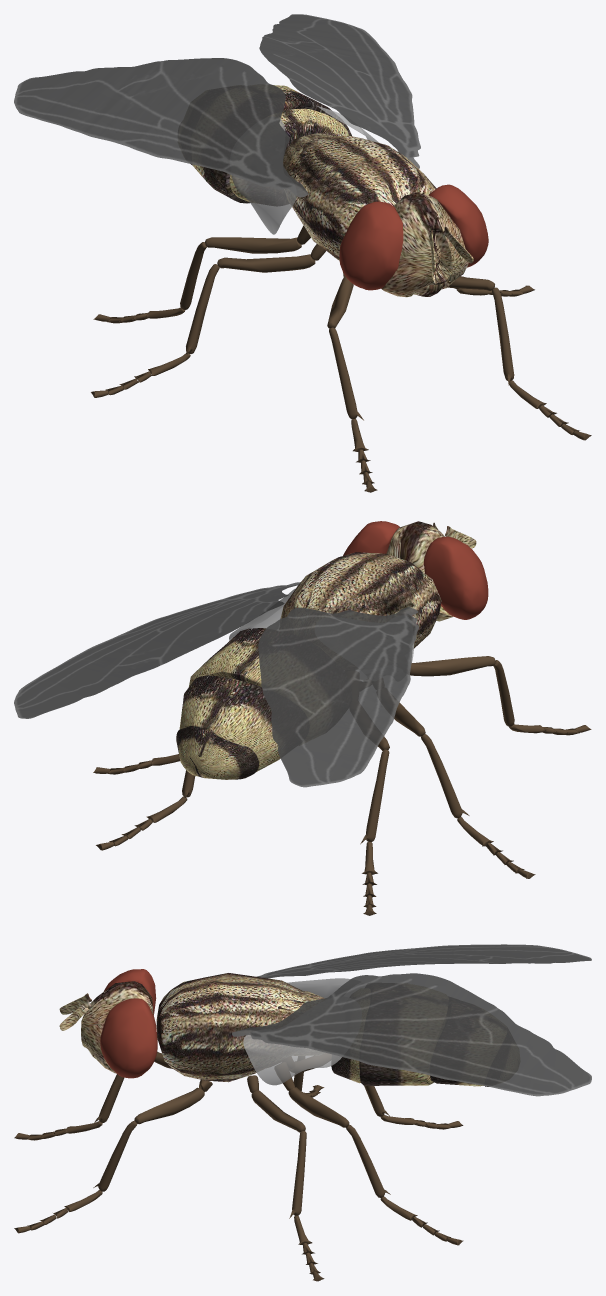
File: realhousefly.glb
The picture shows the model from 3 angles, top to bottom: view 1: azimuth 30°, elevation 25°; view 2: azimuth 150°, elevation 25°; view 3: azimuth 270°, elevation 25°; orthographic projection. The views are drawn at different scales.
Visible parts, largest first — view 1: 3DSMeshMatrix (×15); view 2: 3DSMeshMatrix (×12); view 3: 3DSMeshMatrix (×16).
Part boxes in pixels (x1,y1,x2,y2): 3DSMeshMatrix (×15): (14, 14, 514, 420); 3DSMeshMatrix (×12): (14, 521, 514, 844); 3DSMeshMatrix (×16): (59, 944, 591, 1218).
Bounding box in the file's own units: 0.0636 × 0.0332 × 0.08.
7 materials, 6 textured.
